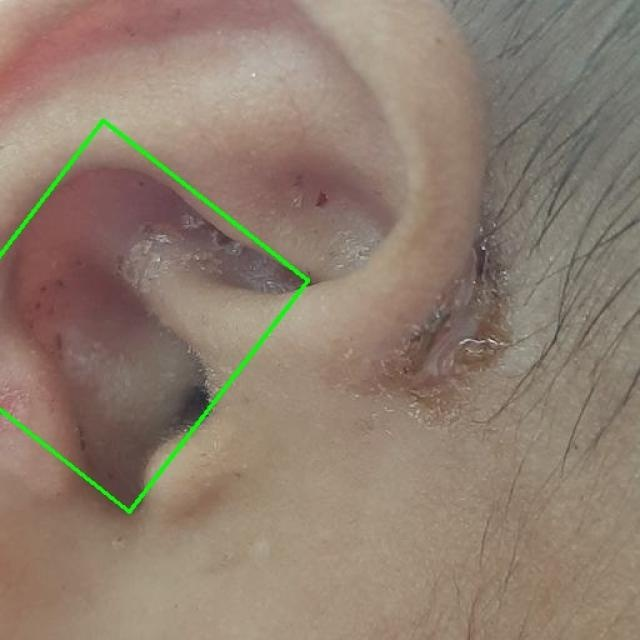Eczema: (0, 121, 334, 540)
